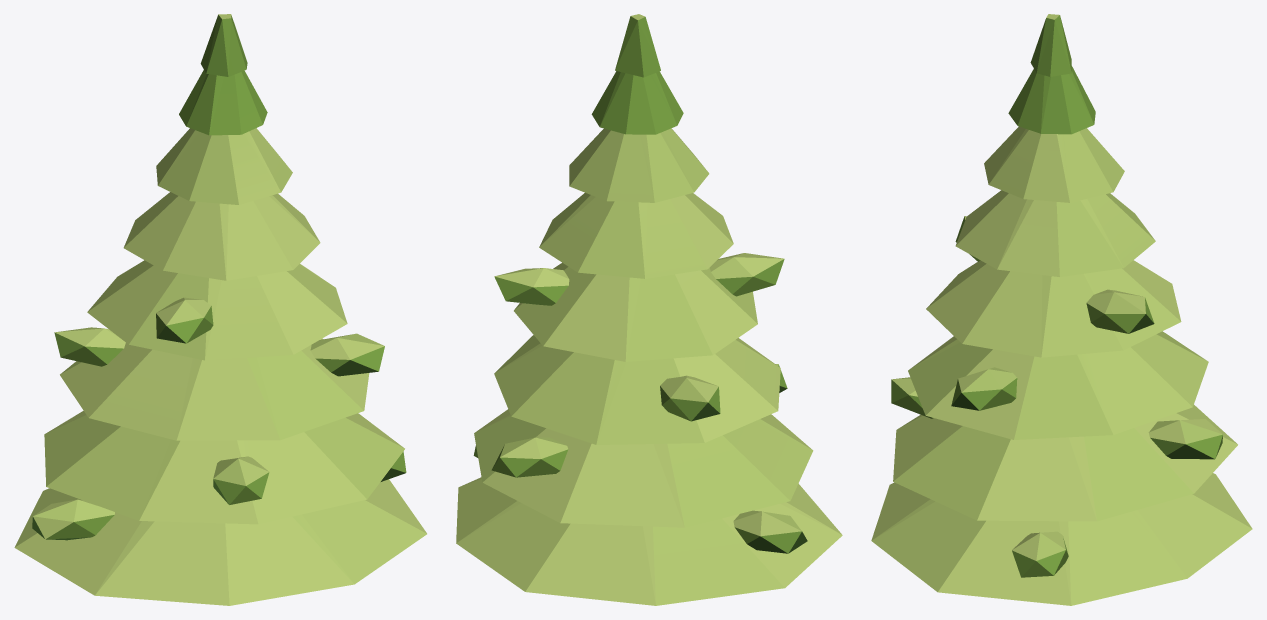
3 views of the same model, side by side, from view 1: azimuth 30°, elevation 25°; view 2: azimuth 150°, elevation 25°; view 3: azimuth 270°, elevation 25° (orthographic).
Visible parts, largest first — view 1: WK_Tree_Spruce_SunlitDense_LOD1_Balanced; view 2: WK_Tree_Spruce_SunlitDense_LOD1_Balanced; view 3: WK_Tree_Spruce_SunlitDense_LOD1_Balanced.
Boxes of the visible parts, left/top/right/bottom form: WK_Tree_Spruce_SunlitDense_LOD1_Balanced: left=14, top=14, right=426, bottom=605; WK_Tree_Spruce_SunlitDense_LOD1_Balanced: left=456, top=14, right=842, bottom=605; WK_Tree_Spruce_SunlitDense_LOD1_Balanced: left=871, top=14, right=1252, bottom=605.
Bounding box in the file's own units: 4.56 × 7.06 × 4.32.
